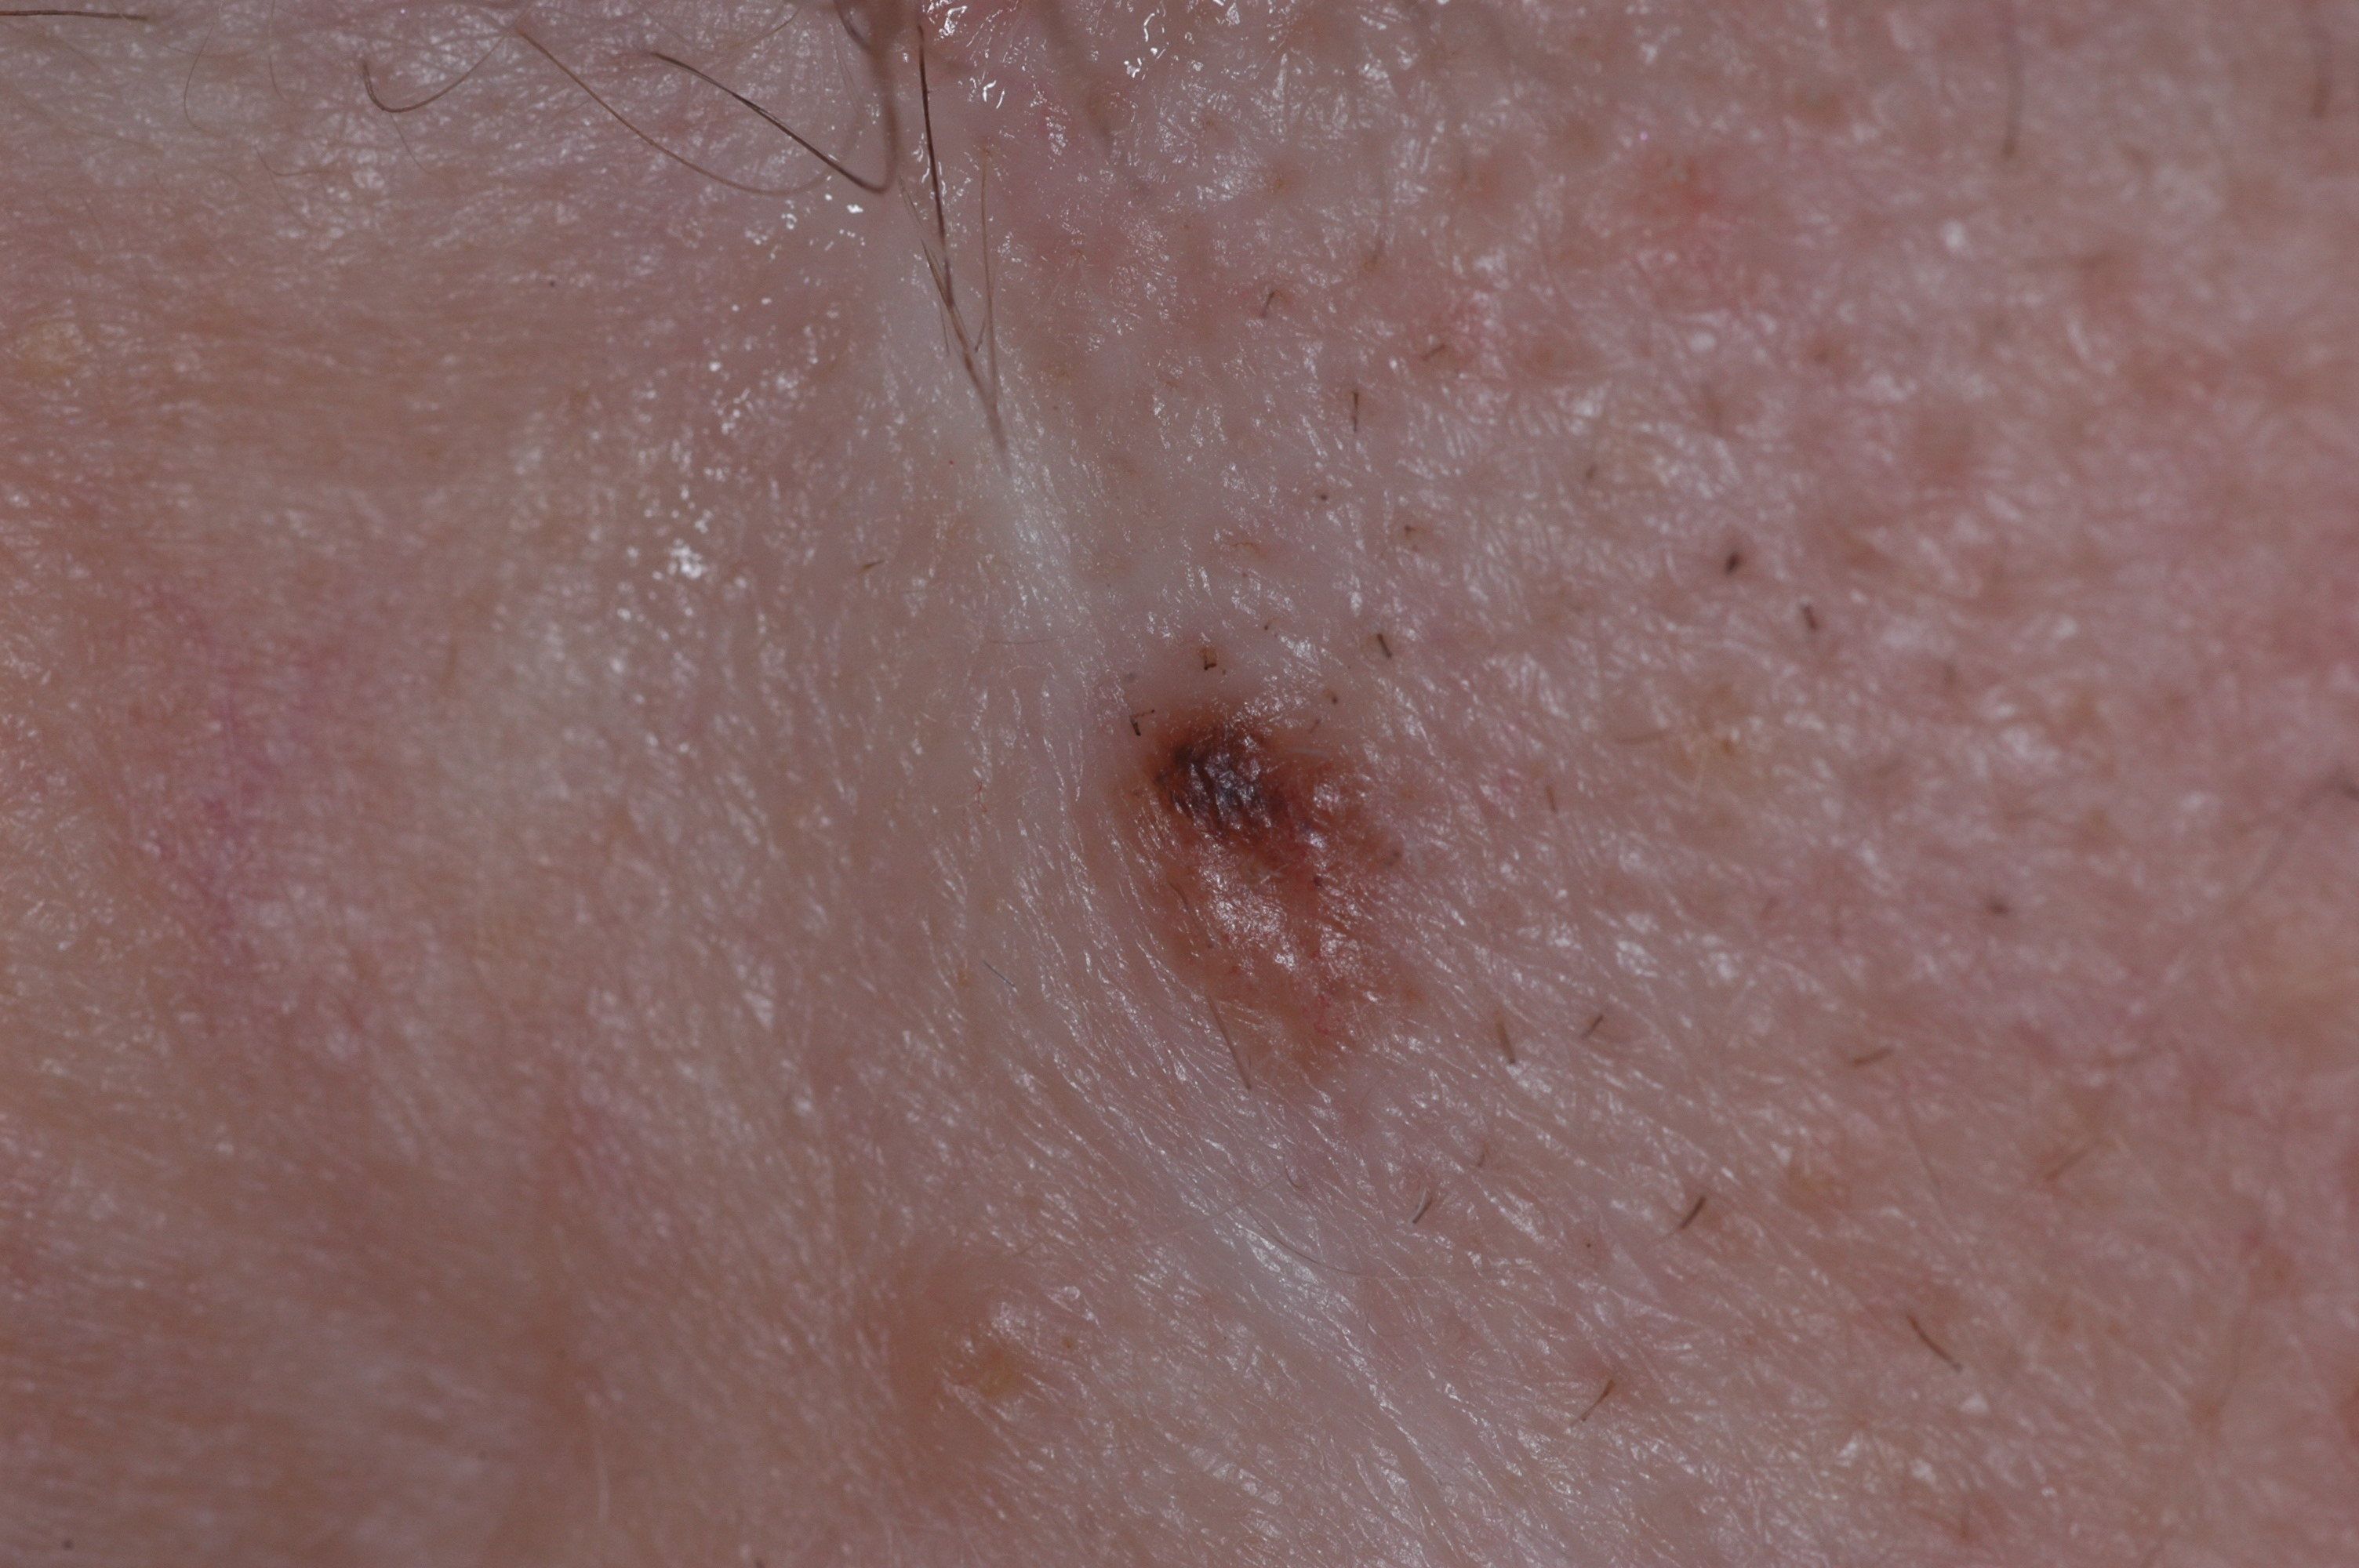Detected Lesion: (1048, 637, 1445, 1120)
